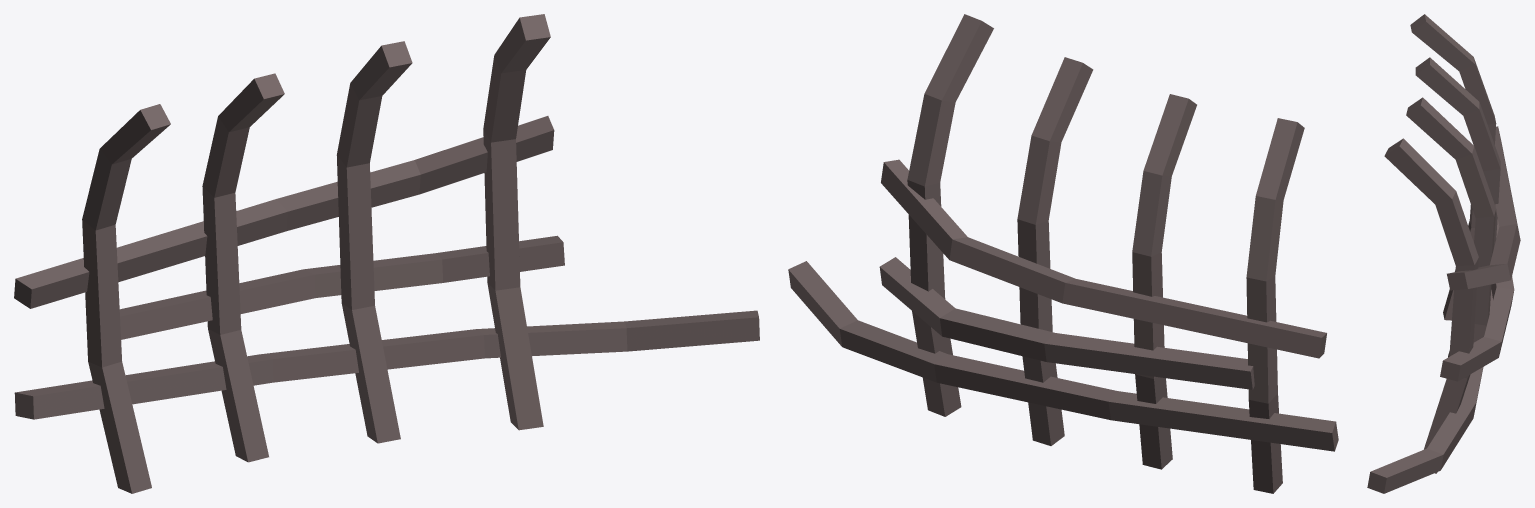
File: Ship_023.fbx
The picture shows the model from 3 angles, left to right: view 1: azimuth 30°, elevation 25°; view 2: azimuth 150°, elevation 25°; view 3: azimuth 270°, elevation 25°; orthographic projection. The views are drawn at different scales.
Parts seen in each view (by area): view 1: Ship_023; view 2: Ship_023; view 3: Ship_023.
Part boxes in pixels (x1,y1,x2,y2): Ship_023: (14, 14, 759, 493); Ship_023: (788, 14, 1338, 493); Ship_023: (1367, 14, 1520, 493).
Size of the model in its own units: 617 by 161 by 373.
1 material, 1 textured.
